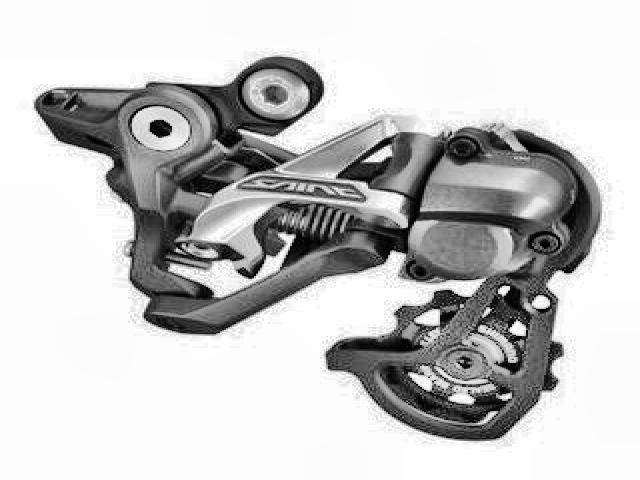rear_derailleur: (28, 52, 607, 454)
